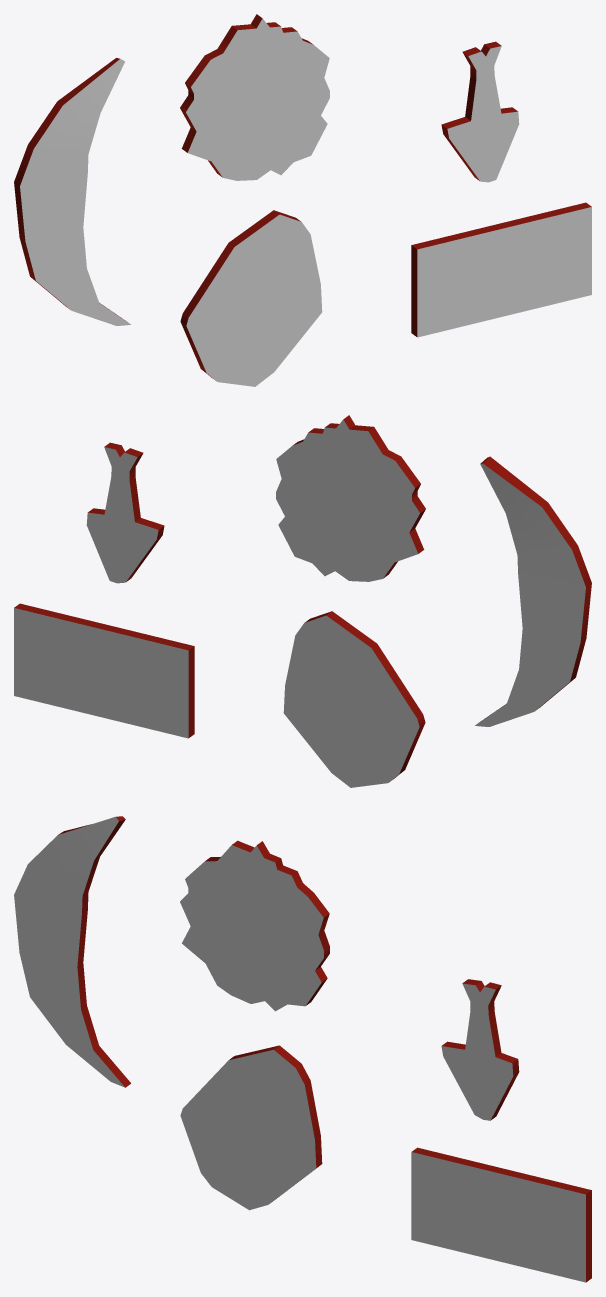
The model's file is attacks.fbx.
The picture shows the model from 3 angles, top to bottom: view 1: azimuth 30°, elevation 25°; view 2: azimuth 150°, elevation 25°; view 3: azimuth 330°, elevation 25°; orthographic projection.
Parts seen in each view (by area): view 1: Plane005, Plane003, Plane004, Plane002, Plane001; view 2: Plane005, Plane003, Plane004, Plane002, Plane001; view 3: Plane005, Plane003, Plane004, Plane002, Plane001.
Part boxes in pixels (bbox=[...]): Plane005: bbox=[180, 14, 329, 180]; Plane003: bbox=[411, 202, 591, 337]; Plane004: bbox=[180, 210, 322, 386]; Plane002: bbox=[14, 58, 130, 325]; Plane001: bbox=[441, 41, 519, 182]; Plane005: bbox=[276, 415, 425, 581]; Plane003: bbox=[14, 603, 194, 738]; Plane004: bbox=[283, 611, 425, 787]; Plane002: bbox=[475, 456, 591, 726]; Plane001: bbox=[86, 442, 164, 583]; Plane005: bbox=[180, 840, 329, 1011]; Plane003: bbox=[411, 1147, 591, 1282]; Plane004: bbox=[180, 1045, 322, 1210]; Plane002: bbox=[14, 816, 130, 1087]; Plane001: bbox=[441, 979, 519, 1120].
Bounding box in the file's own units: 67.32 × 41.25 × 1.34.
